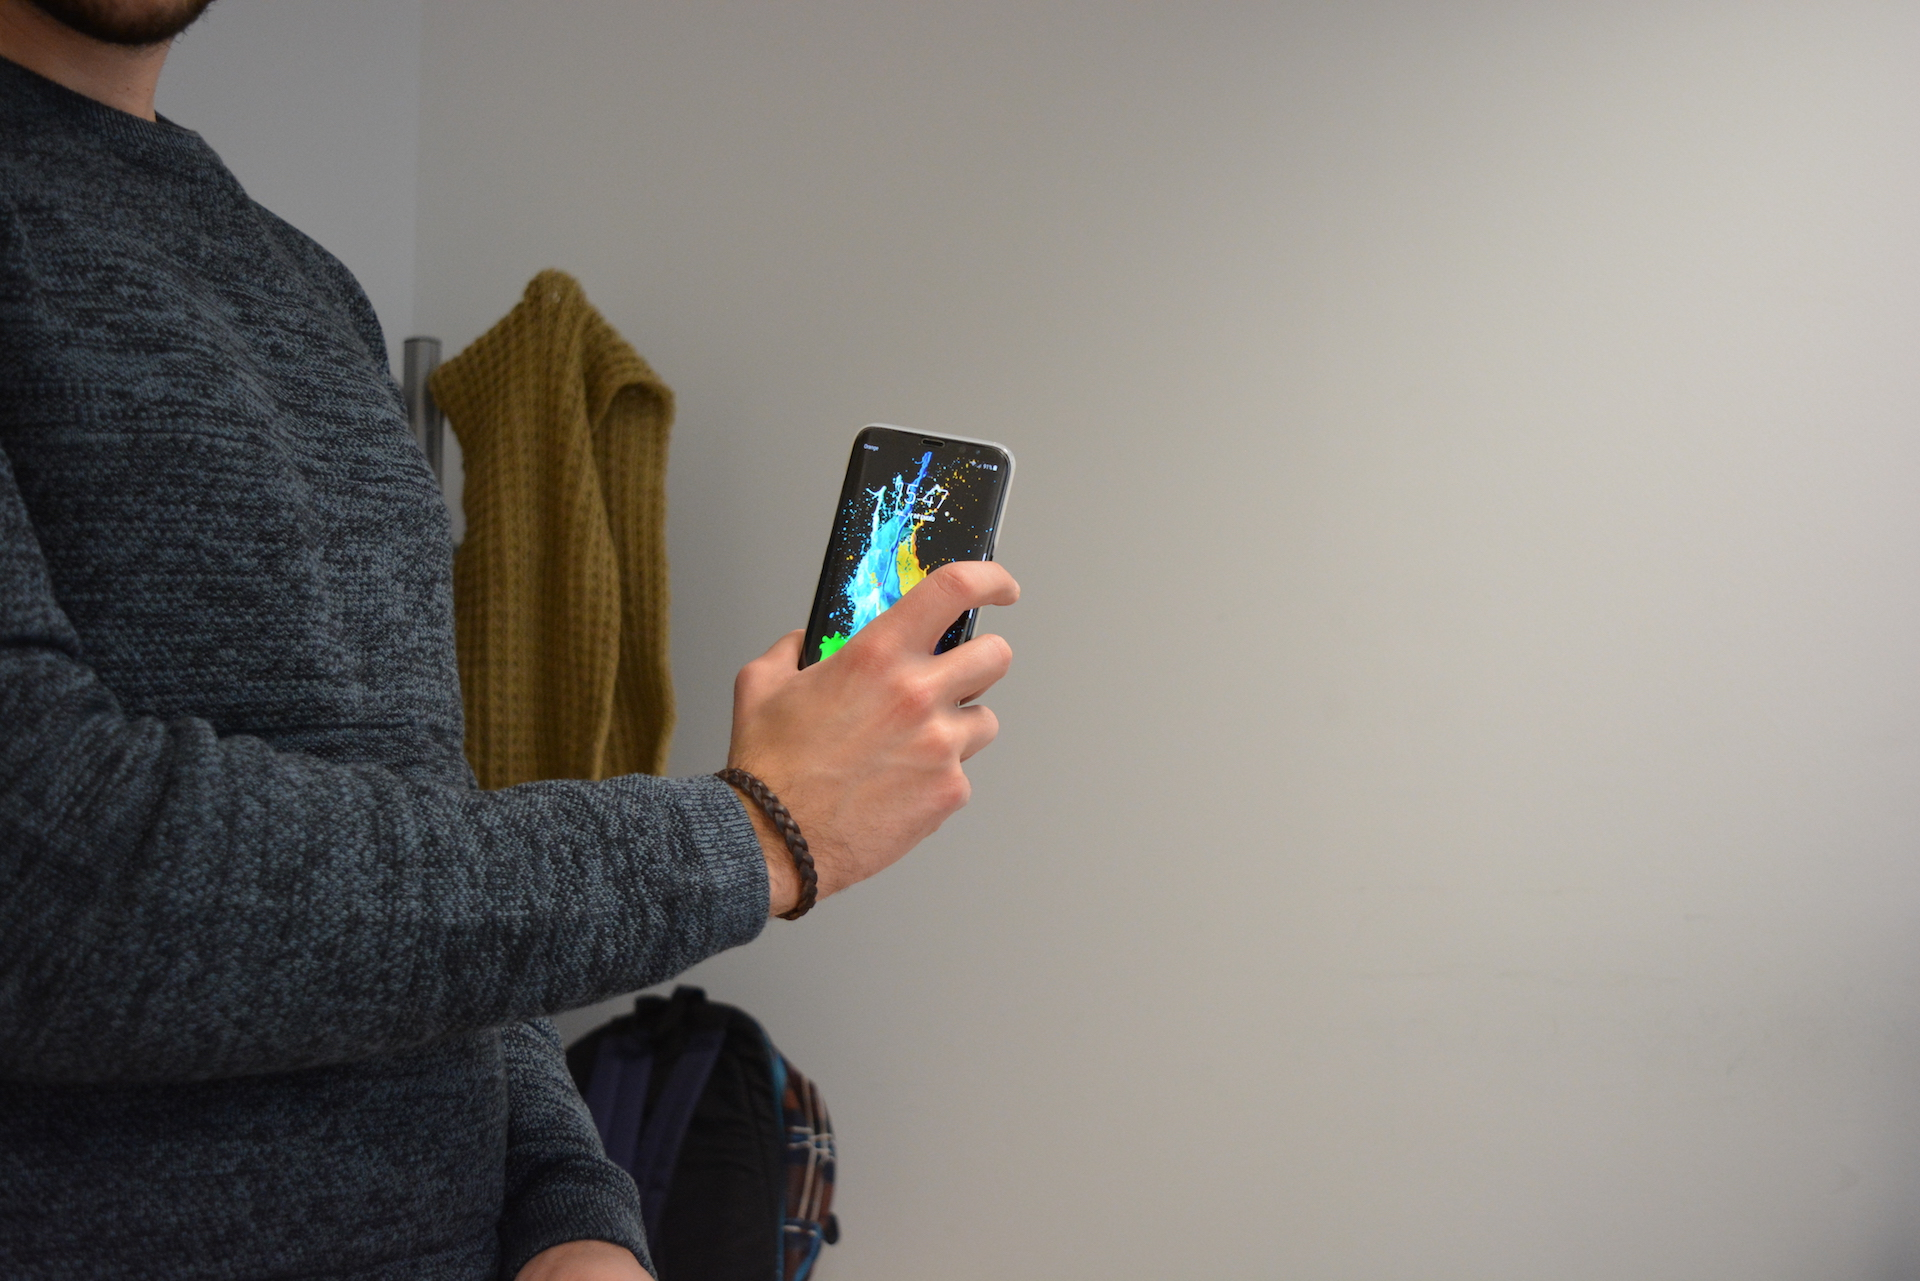smartphone: (793, 423, 1016, 686)
